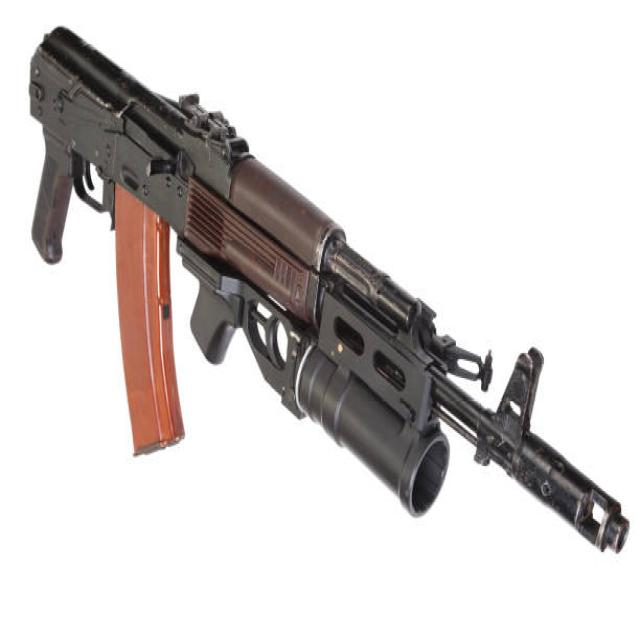rifle: (18, 23, 634, 570)
